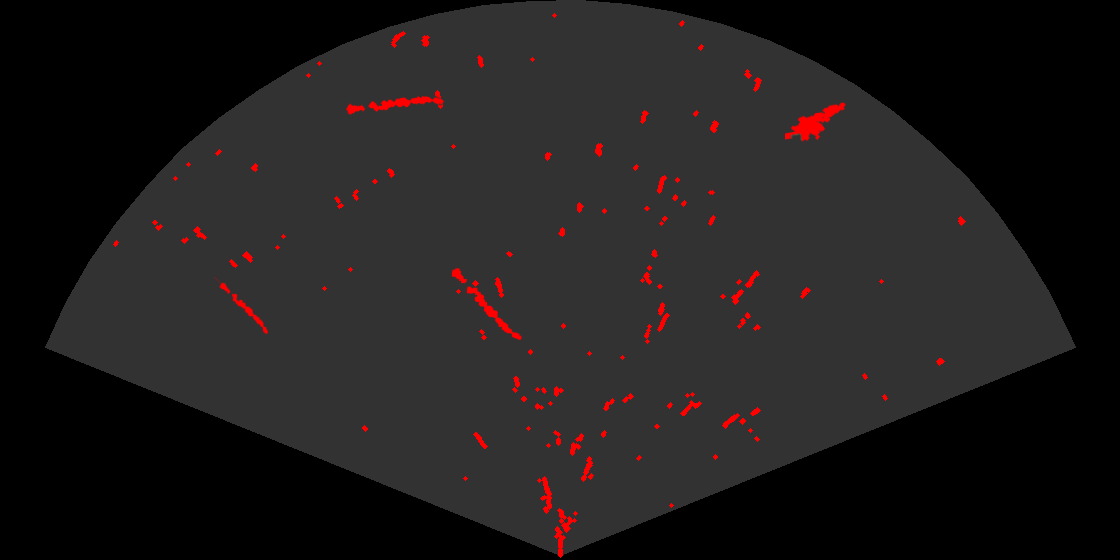chain: (450, 266, 523, 342), (214, 274, 270, 336), (344, 94, 445, 116)
frogman: (785, 101, 847, 143)
